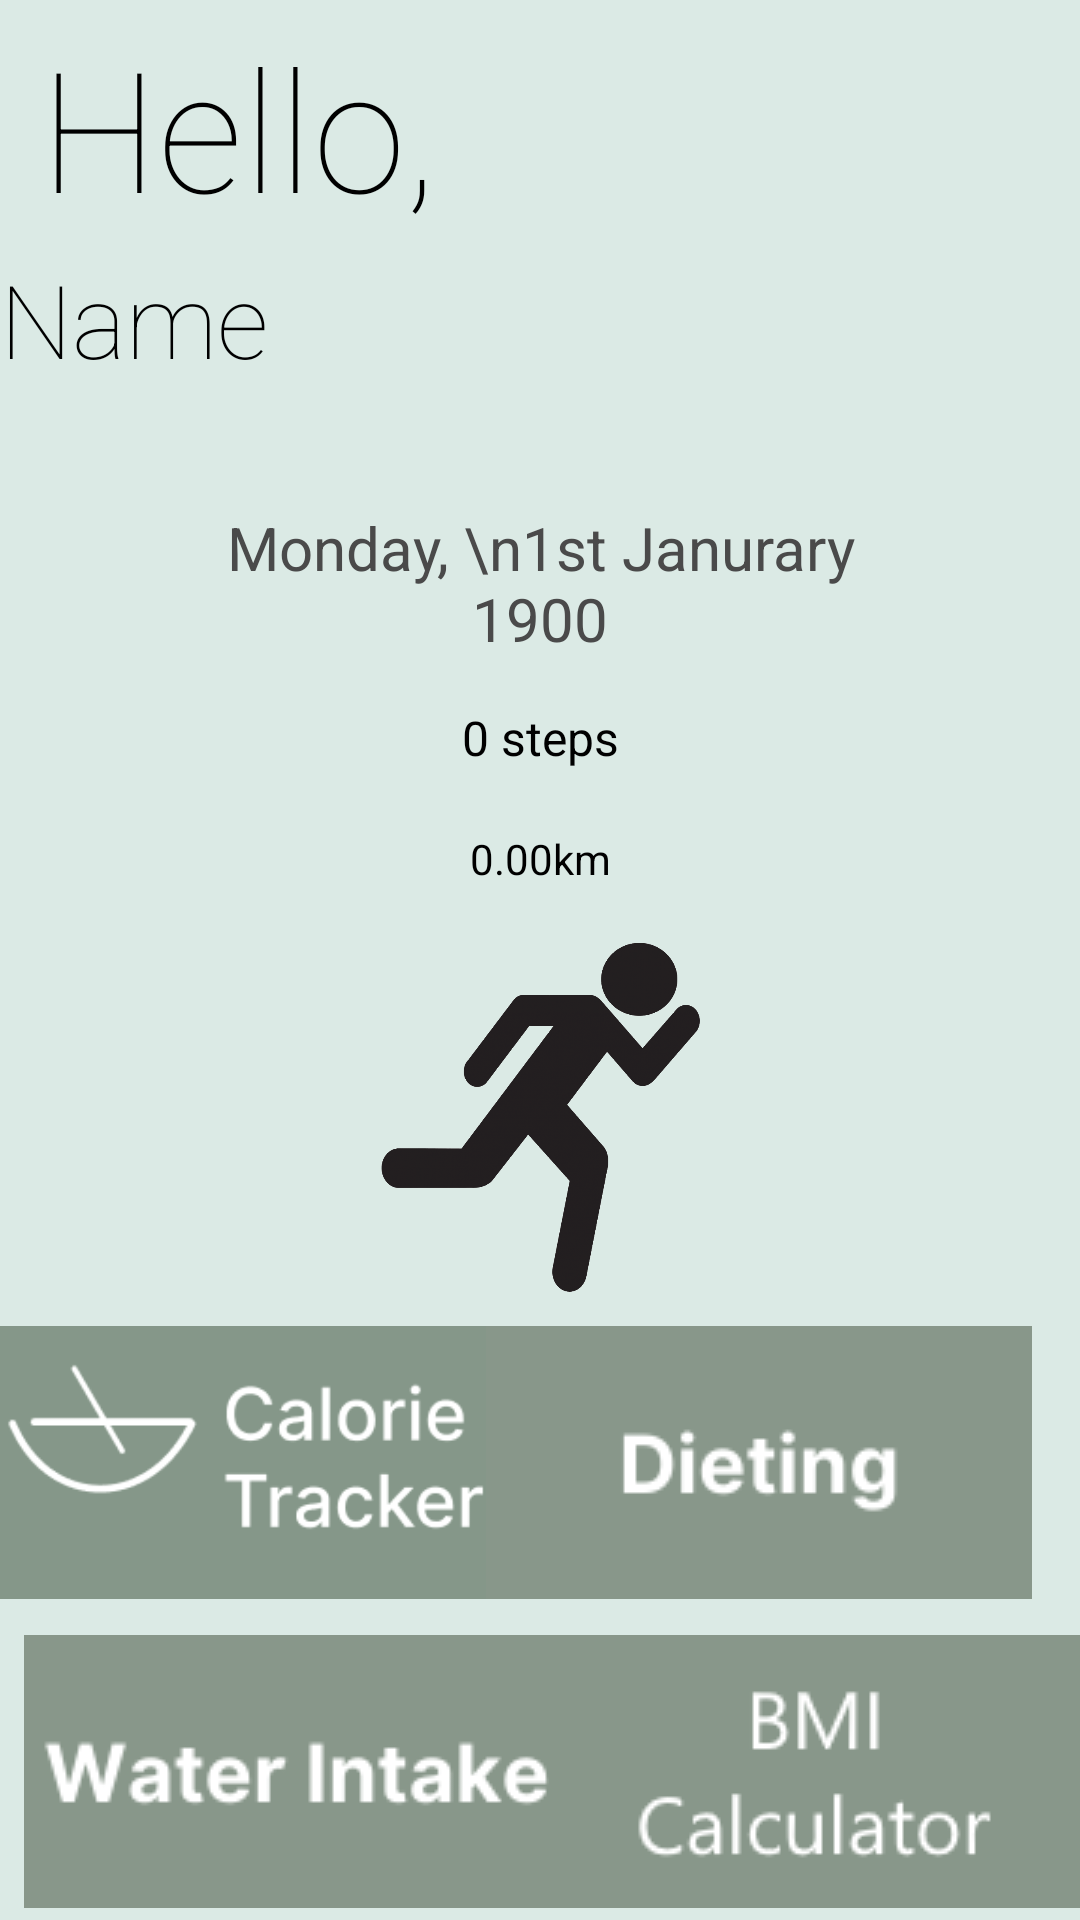

Icons on this 1080 × 1920 Android screen, each with its box as (x1, y1, x2, y2):
runningman: (381, 943, 700, 1292)
